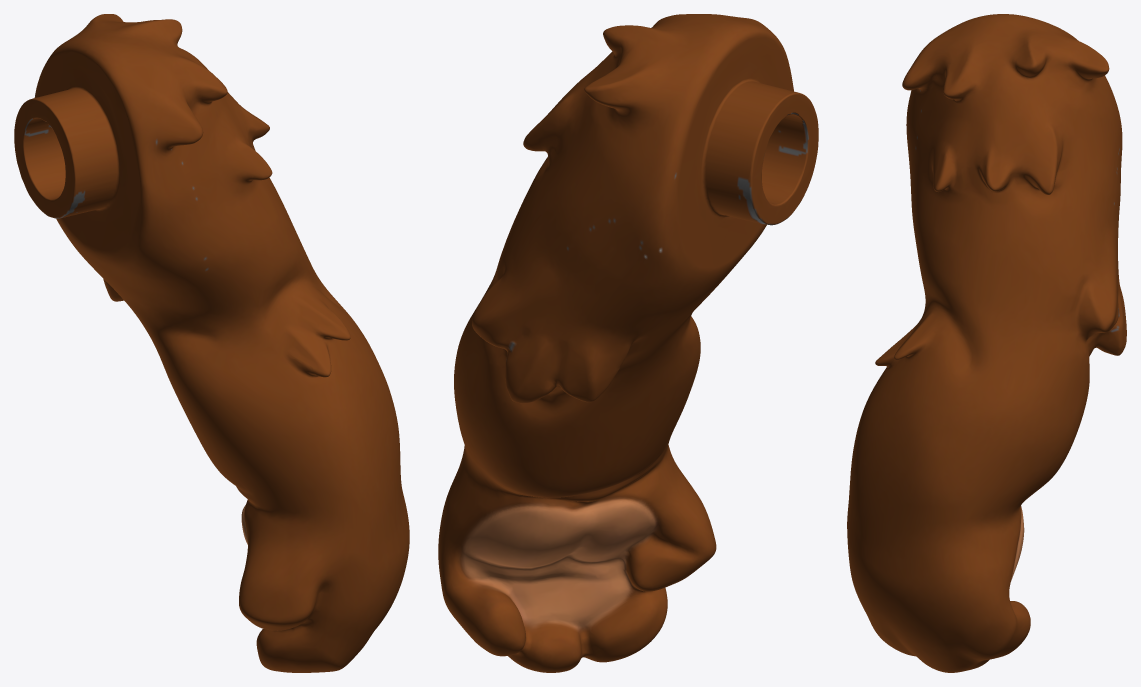
The model's file is Bras_Lion_lft.glb.
3 views of the same model, side by side, from view 1: azimuth 30°, elevation 25°; view 2: azimuth 150°, elevation 25°; view 3: azimuth 270°, elevation 25° (orthographic). The views are drawn at different scales.
Parts seen in each view (by area): view 1: Bras_Lion_lft; view 2: Bras_Lion_lft; view 3: Bras_Lion_lft.
Part boxes in pixels (box(x1,y1,x2,y2)): Bras_Lion_lft: box(14, 14, 409, 672); Bras_Lion_lft: box(438, 14, 818, 672); Bras_Lion_lft: box(847, 14, 1126, 672).
Size of the model in its own units: 2.65 by 4.89 by 2.17.
